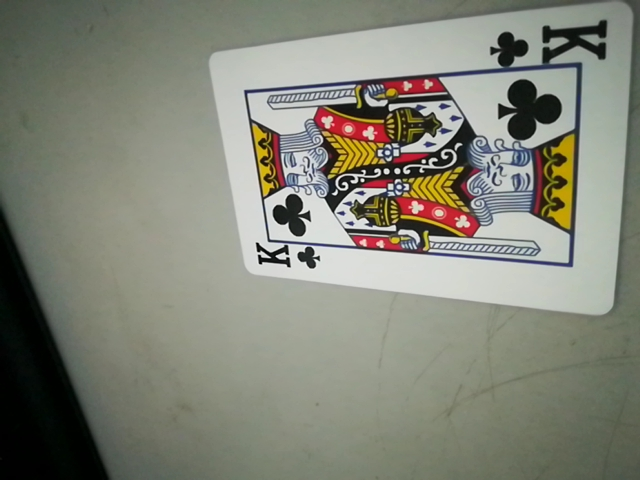mh k: (487, 16, 614, 73), (250, 238, 324, 278)
